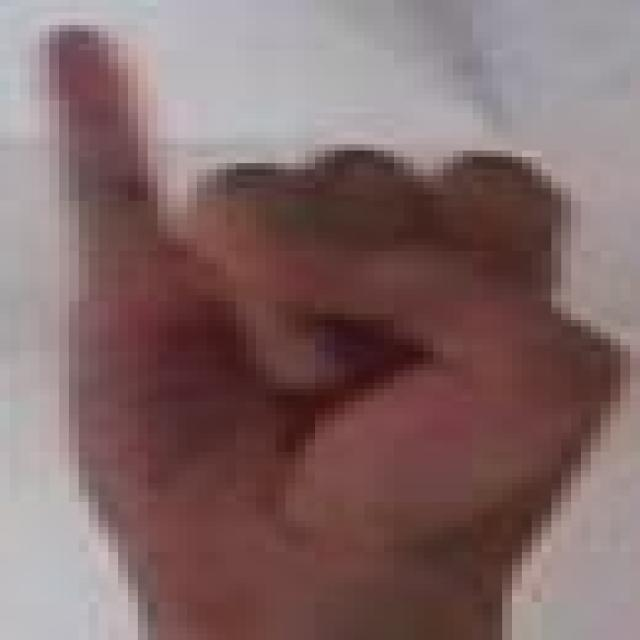I: (31, 23, 622, 565)
